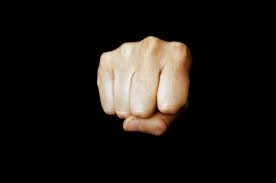fist: (100, 37, 190, 140)
